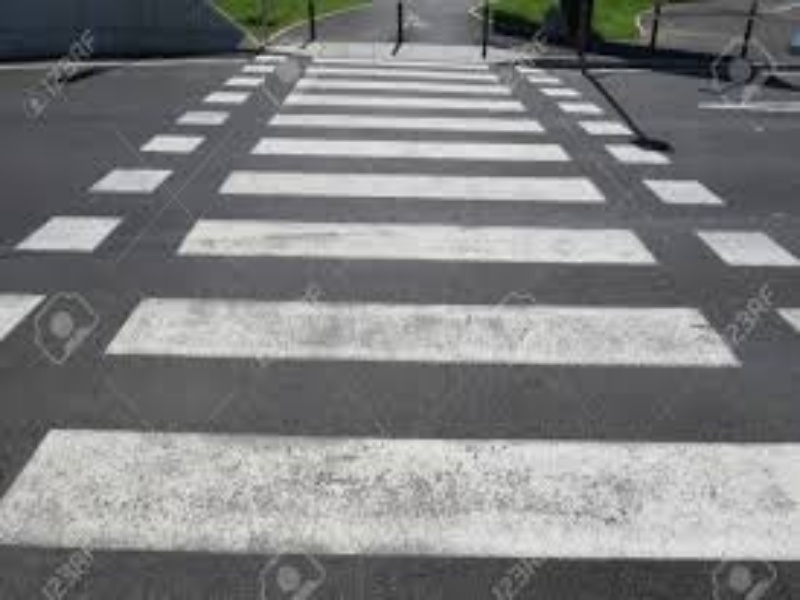zebra cross: (2, 61, 800, 561)
